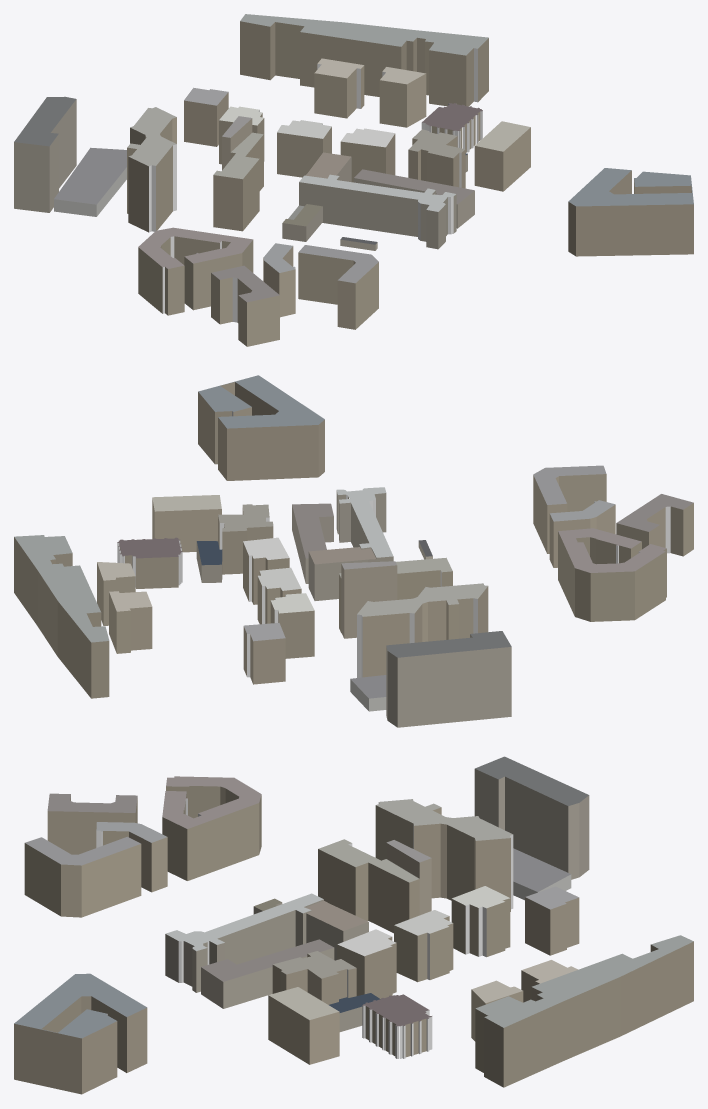
The picture shows the model from 3 angles, top to bottom: view 1: azimuth 30°, elevation 25°; view 2: azimuth 150°, elevation 25°; view 3: azimuth 270°, elevation 25°; orthographic projection. The views are drawn at different scales.
Visible parts, largest first — view 1: tuile; view 2: tuile; view 3: tuile.
Boxes of the visible parts, left/top/right/bottom form: tuile: left=14, top=14, right=693, bottom=346; tuile: left=14, top=375, right=693, bottom=727; tuile: left=14, top=756, right=693, bottom=1094.
Size of the model in its own units: 300 by 41.99 by 324.
